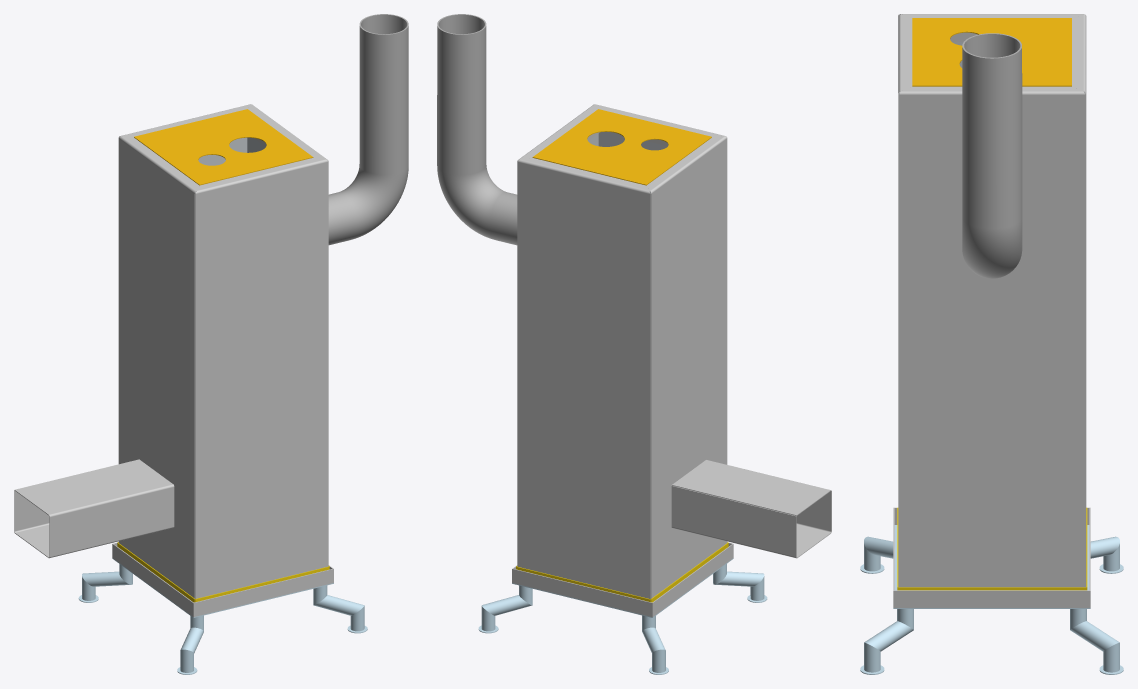
Rendered from testnew2.gltf.
The picture shows the model from 3 angles, left to right: view 1: azimuth 30°, elevation 25°; view 2: azimuth 150°, elevation 25°; view 3: azimuth 270°, elevation 25°; orthographic projection. The views are drawn at different scales.
Parts seen in each view (by area): view 1: Part - B, Part - C, Part 10, Part 12, Part 9, Part 1 (×3), Part 5, Part 6, Part - D, Part 11, Part - A; view 2: Part - A, Part - C, Part 10, Part 12, Part 9, Part 1 (×3), Part 7, Part 6, Part - D, Part 11, Part - B; view 3: Part - D, Part 10, Part 9, Part 1 (×4), Part 8, Part - A, Part - B, Part 11, Part - C, Part-d.
Boxes of the visible parts, left/top/right/bottom form: Part - B: left=195, top=158, right=328, bottom=598; Part - C: left=118, top=136, right=199, bottom=598; Part 10: left=328, top=14, right=408, bottom=245; Part 12: left=14, top=459, right=174, bottom=558; Part 9: left=134, top=109, right=313, bottom=185; Part 1 (×3): left=82, top=564, right=364, bottom=672; Part 5: left=193, top=568, right=333, bottom=616; Part 6: left=112, top=544, right=193, bottom=616; Part - D: left=248, top=104, right=328, bottom=566; Part 11: left=117, top=542, right=329, bottom=602; Part - A: left=119, top=104, right=250, bottom=137; Part - A: left=517, top=158, right=650, bottom=598; Part - C: left=646, top=136, right=727, bottom=598; Part 10: left=437, top=14, right=517, bottom=245; Part 12: left=671, top=460, right=831, bottom=558; Part 9: left=532, top=109, right=711, bottom=185; Part 1 (×3): left=481, top=564, right=764, bottom=672; Part 7: left=512, top=568, right=652, bottom=616; Part 6: left=652, top=544, right=733, bottom=616; Part - D: left=517, top=104, right=599, bottom=566; Part 11: left=516, top=542, right=728, bottom=602; Part - B: left=595, top=104, right=726, bottom=146; Part - D: left=899, top=86, right=1084, bottom=587; Part 10: left=962, top=33, right=1022, bottom=278; Part 9: left=912, top=18, right=1071, bottom=86; Part 1 (×4): left=864, top=536, right=1119, bottom=672; Part 8: left=893, top=590, right=1090, bottom=607; Part - A: left=1072, top=14, right=1086, bottom=587; Part - B: left=898, top=14, right=912, bottom=587; Part 11: left=897, top=507, right=1087, bottom=590; Part - C: left=900, top=14, right=1083, bottom=41; Part-d: left=899, top=92, right=1084, bottom=586.
Size of the model in its own units: 0.7092 by 0.9978 by 0.3563.
